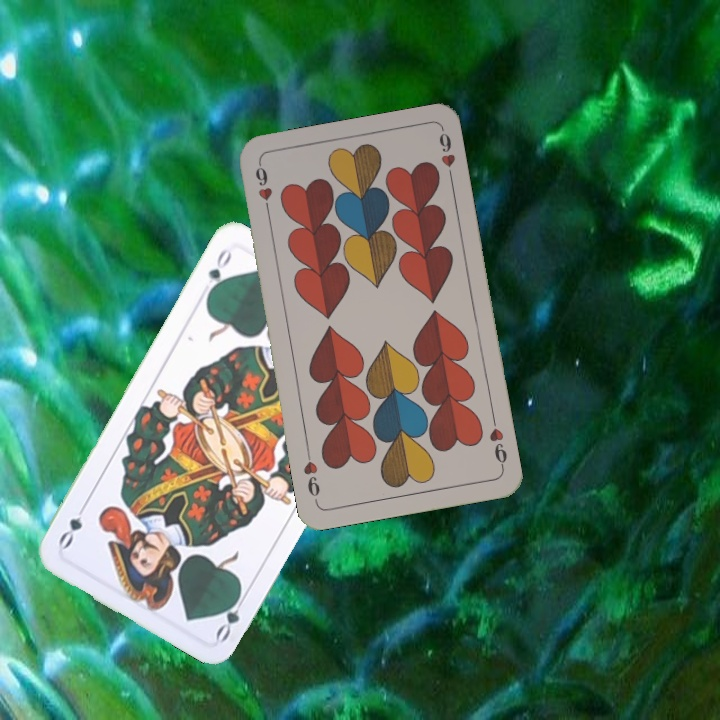GO: (211, 586, 250, 644), (203, 244, 235, 300)
H9: (485, 413, 510, 472), (251, 160, 275, 218)
